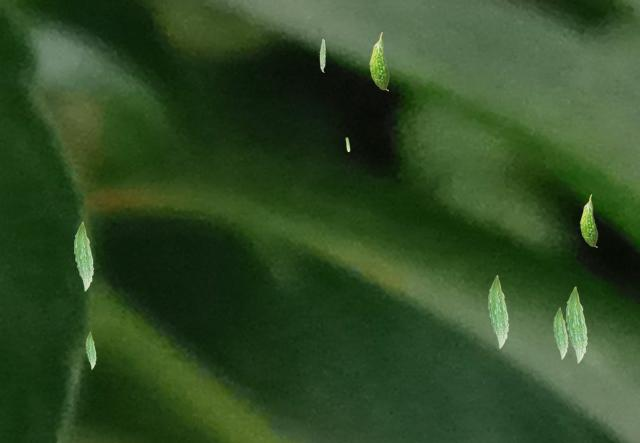ampalaya: (565, 286, 588, 363), (488, 274, 509, 349), (73, 221, 94, 291), (369, 31, 389, 91), (579, 194, 598, 248), (553, 307, 568, 360), (85, 331, 96, 369), (319, 38, 326, 72), (345, 137, 350, 152)
